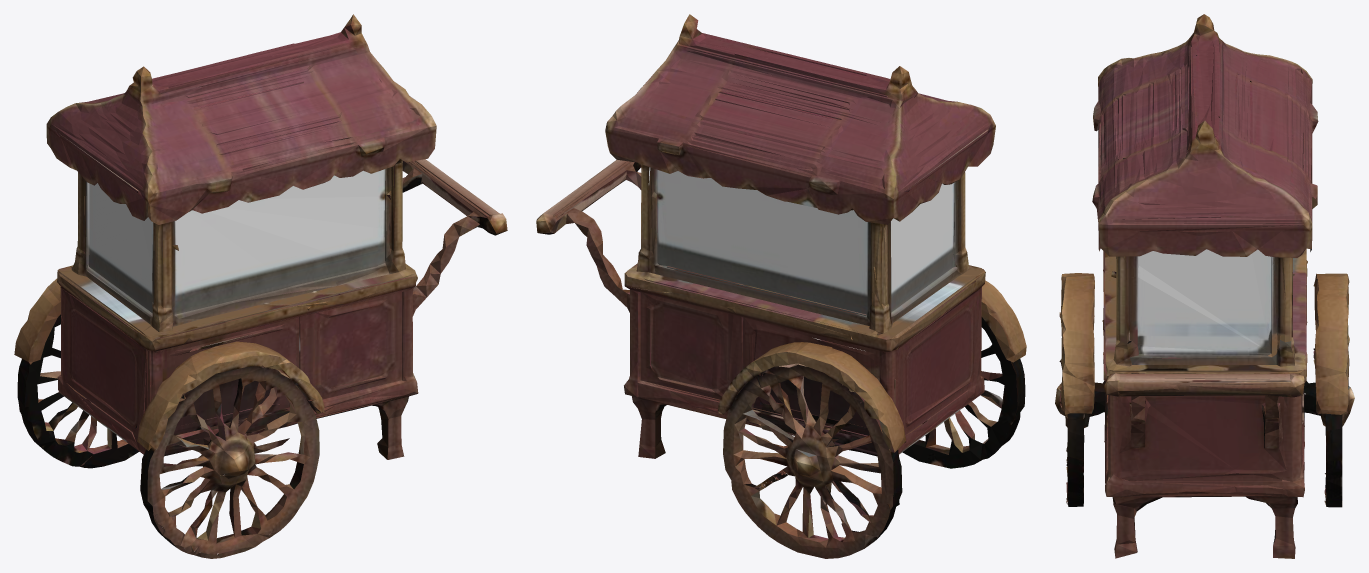
Rendered from park_popcorn_cart_1117.glb.
3 views of the same model, side by side, from view 1: azimuth 30°, elevation 25°; view 2: azimuth 150°, elevation 25°; view 3: azimuth 270°, elevation 25° (orthographic). The views are drawn at different scales.
Visible parts, largest first — view 1: world; view 2: world; view 3: world.
Boxes of the visible parts, box(x1,y1,x2,y2) form: world: box(14, 14, 507, 558); world: box(536, 14, 1026, 558); world: box(1055, 14, 1354, 558).
Bounding box in the file's own units: 0.8916 × 1 × 0.5776.
1 material, 1 textured.
